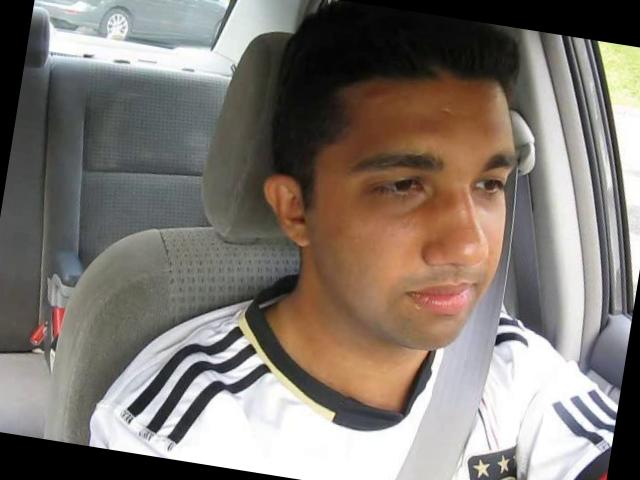eye_open: (361, 166, 432, 210), (468, 170, 512, 204)
face: (308, 103, 530, 362)
